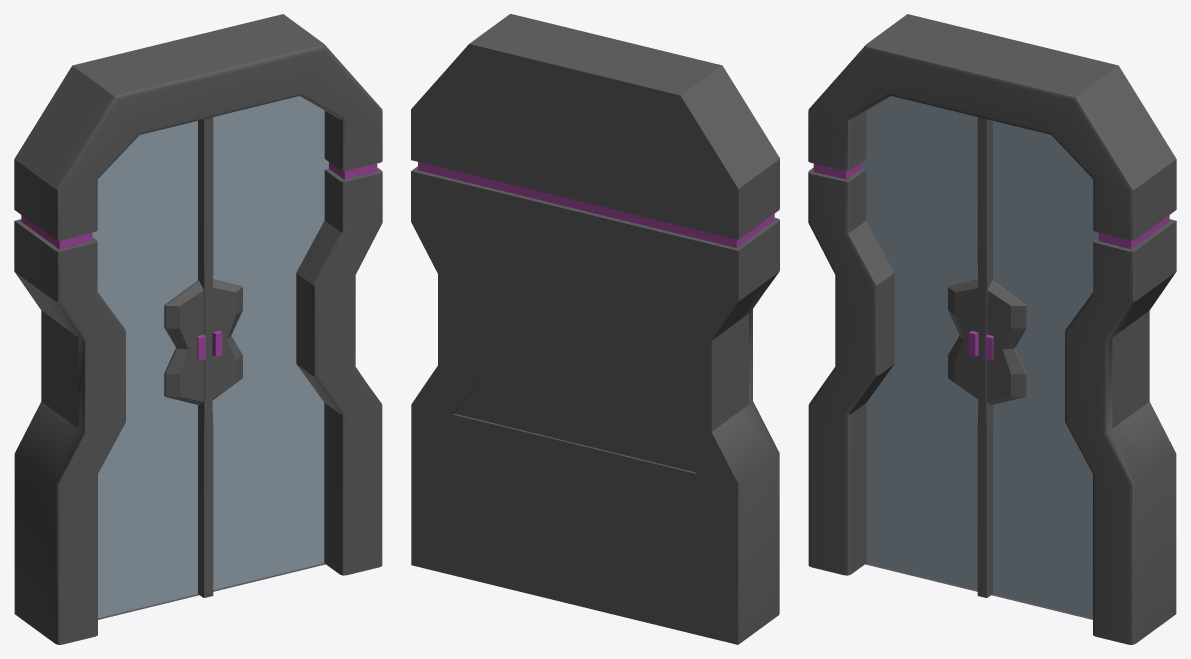
Rendered from Porte 2.fbx.
The picture shows the model from 3 angles, left to right: view 1: azimuth 30°, elevation 25°; view 2: azimuth 150°, elevation 25°; view 3: azimuth 330°, elevation 25°; orthographic projection.
Parts seen in each view (by area): view 1: Porte1; view 2: Porte1; view 3: Porte1.
Boxes of the visible parts, x1,y1,x2,y2 form: Porte1: [14, 14, 382, 644]; Porte1: [411, 14, 779, 644]; Porte1: [808, 14, 1176, 644].
Size of the model in its own units: 7.49 by 11.7 by 1.72.
